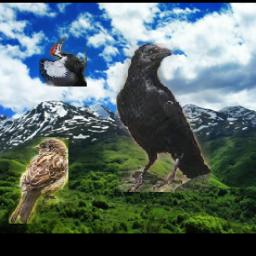Crow: (117, 44, 212, 193)
Sparrow: (10, 137, 69, 224)
Woodpecker: (39, 38, 87, 87)
